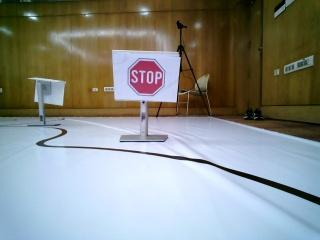stop: (111, 50, 178, 103)
